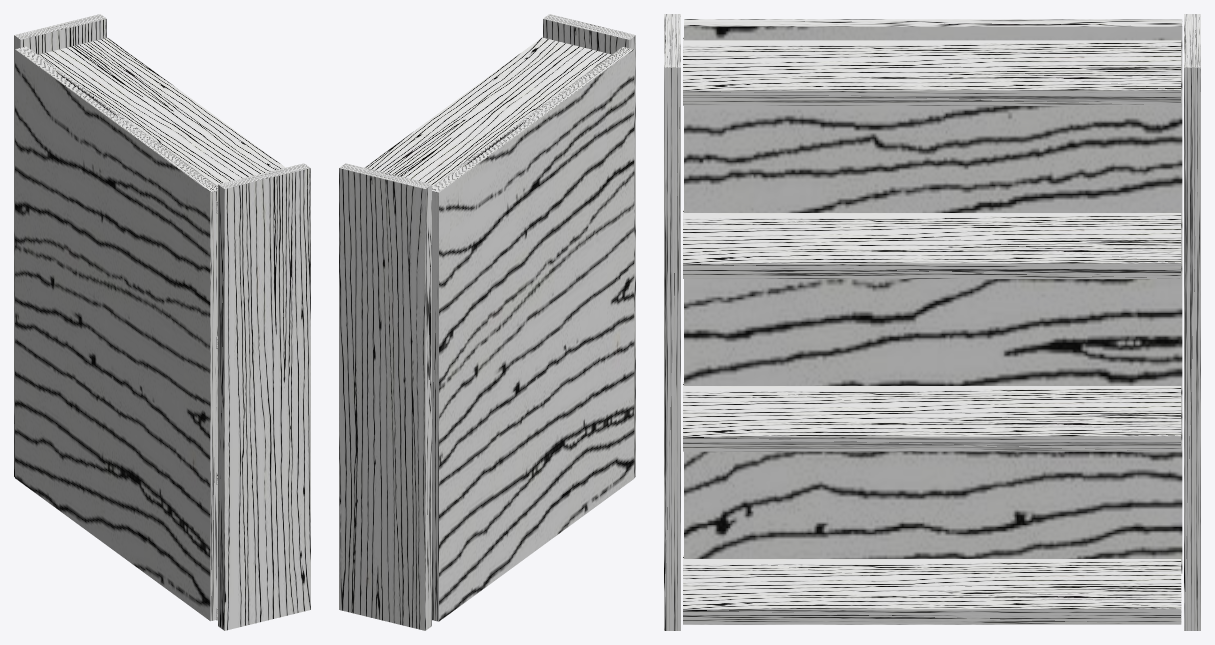
File: shelves.fbx
3 views of the same model, side by side, from view 1: azimuth 30°, elevation 25°; view 2: azimuth 150°, elevation 25°; view 3: azimuth 270°, elevation 25° (orthographic). The views are drawn at different scales.
Parts seen in each view (by area): view 1: Cube.006, Cube.004, Cube.003, Cube.005; view 2: Cube.006, Cube.005, Cube.003, Cube.004; view 3: Cube.006, Cube, Cube.001, Cube.002, Cube.003, Cube.004, Cube.005.
Boxes of the visible parts, x1=… form: Cube.006: x1=15, y1=46, x2=217, y2=621; Cube.004: x1=218, y1=163, x2=310, y2=630; Cube.003: x1=38, y1=37, x2=285, y2=213; Cube.005: x1=14, y1=14, x2=106, y2=477; Cube.006: x1=432, y1=47, x2=634, y2=621; Cube.005: x1=339, y1=163, x2=431, y2=630; Cube.003: x1=364, y1=37, x2=611, y2=186; Cube.004: x1=543, y1=14, x2=635, y2=477; Cube.006: x1=684, y1=19, x2=1182, y2=573; Cube: x1=683, y1=555, x2=1181, y2=624; Cube.001: x1=683, y1=382, x2=1181, y2=451; Cube.002: x1=683, y1=210, x2=1181, y2=278; Cube.003: x1=683, y1=37, x2=1181, y2=105; Cube.004: x1=664, y1=14, x2=680, y2=630; Cube.005: x1=1184, y1=14, x2=1200, y2=630.
Size of the model in its own units: 214 by 977 by 844.
